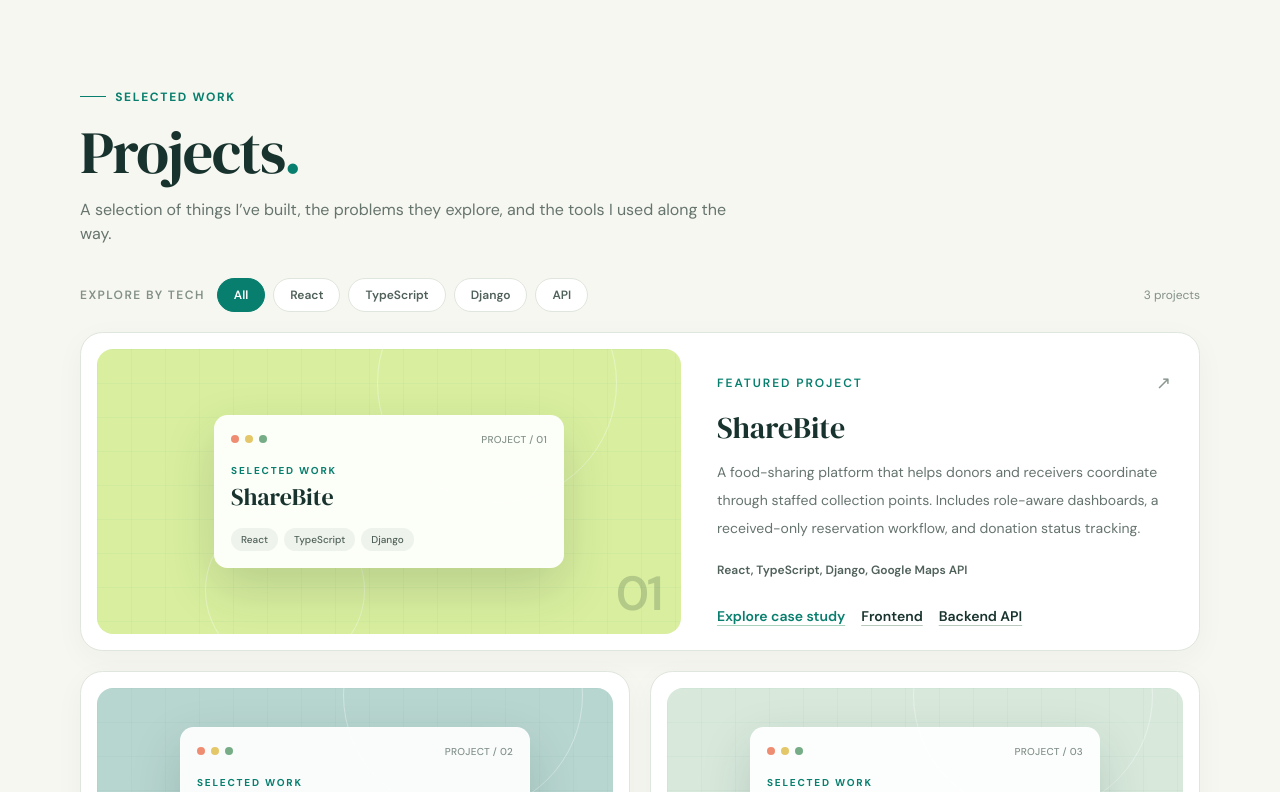
Test: opens the ShareBite case study and closes it with Escape
Click the button "Explore case study" at (781, 616), box [717,606,845,626]
(page scrolled)
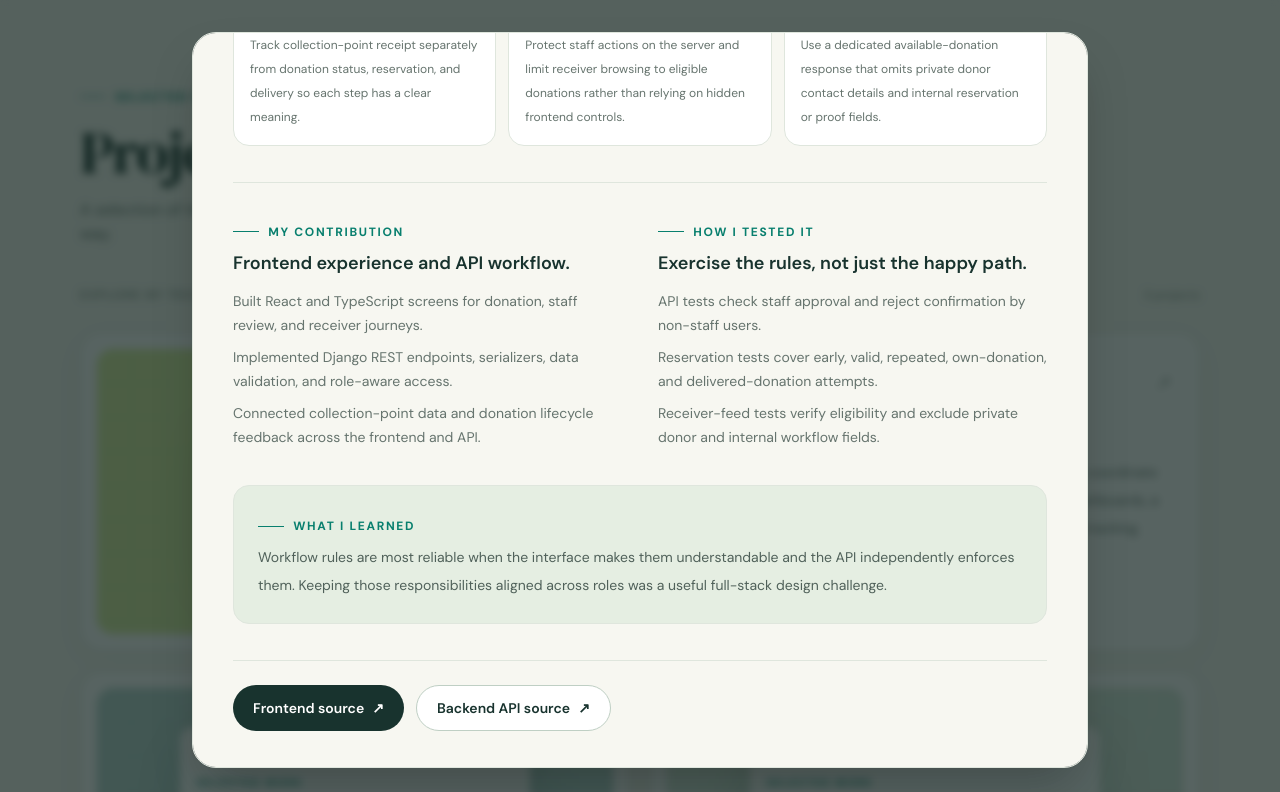
Check: the dialog "ShareBite" is shown
Check: the list item "Reservation tests cover early, valid, repeated" is shown, box [658,348,1047,390]
Press Escape
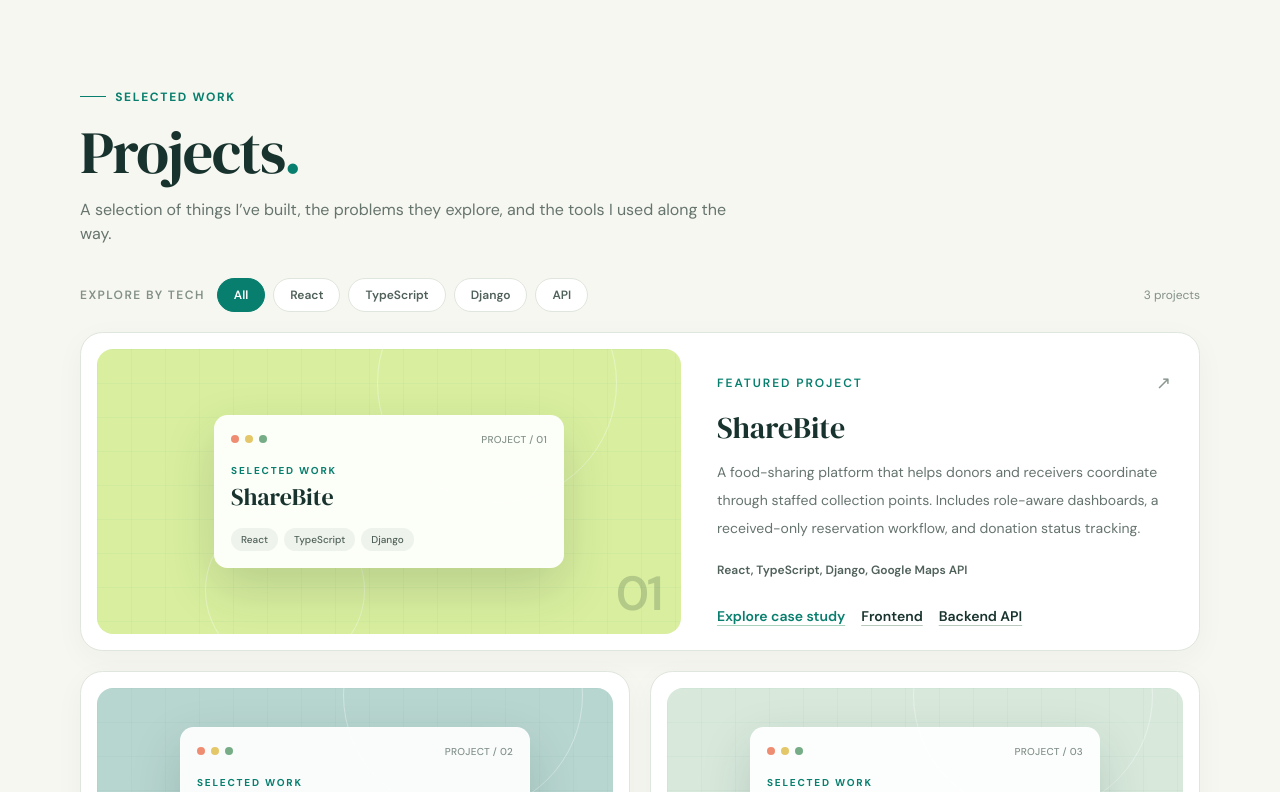
Check: the dialog is gone
